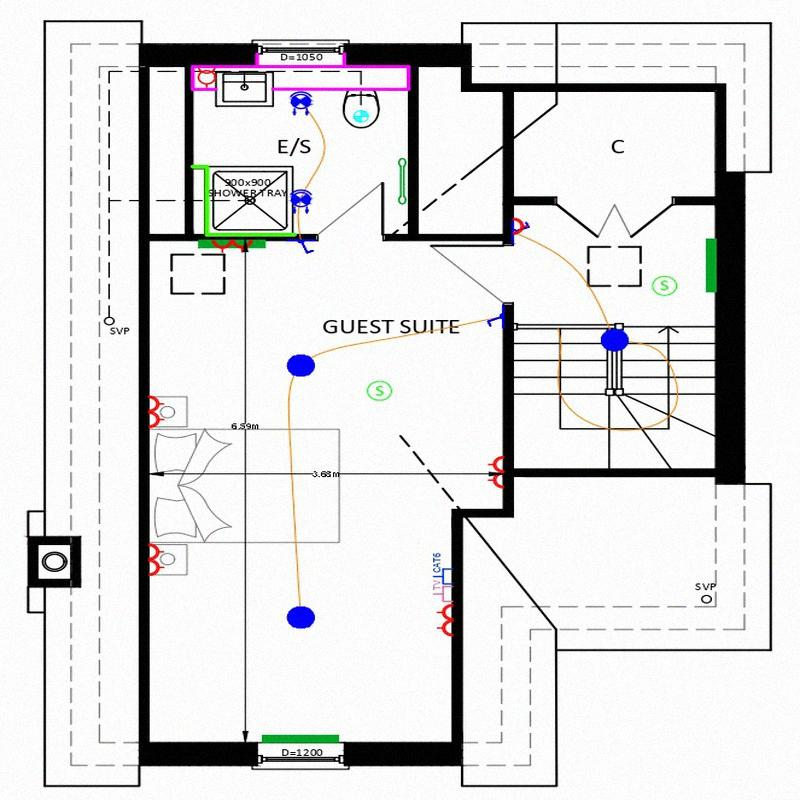Cat 6 Data Socket: (428, 551, 454, 585)
Ceiling Mounted Continuous Extract FanWith Boost Mode Activated By Light Switch: (352, 109, 369, 122)
Double Socket: (211, 239, 254, 256), (435, 601, 452, 640), (148, 542, 165, 578), (487, 454, 503, 491), (148, 394, 164, 430)
Full Height Tiling: (193, 164, 294, 235)
Light Switch: (486, 310, 503, 330), (296, 240, 315, 256), (513, 221, 530, 233)
Low Energy Downlighter: (289, 90, 311, 117), (291, 190, 311, 214)
Low Energy Pendant Light: (599, 327, 628, 351), (286, 607, 315, 630), (287, 354, 315, 377)
Mains Wired Smoke Detector: (366, 380, 392, 401), (652, 276, 677, 297)
Radiator: (261, 734, 339, 743), (705, 237, 717, 293), (198, 240, 266, 249)
Shaver Socket: (196, 66, 216, 90)
Single Socket: (511, 216, 532, 237)
TV & Satellite Multisocket: (431, 581, 453, 602)
